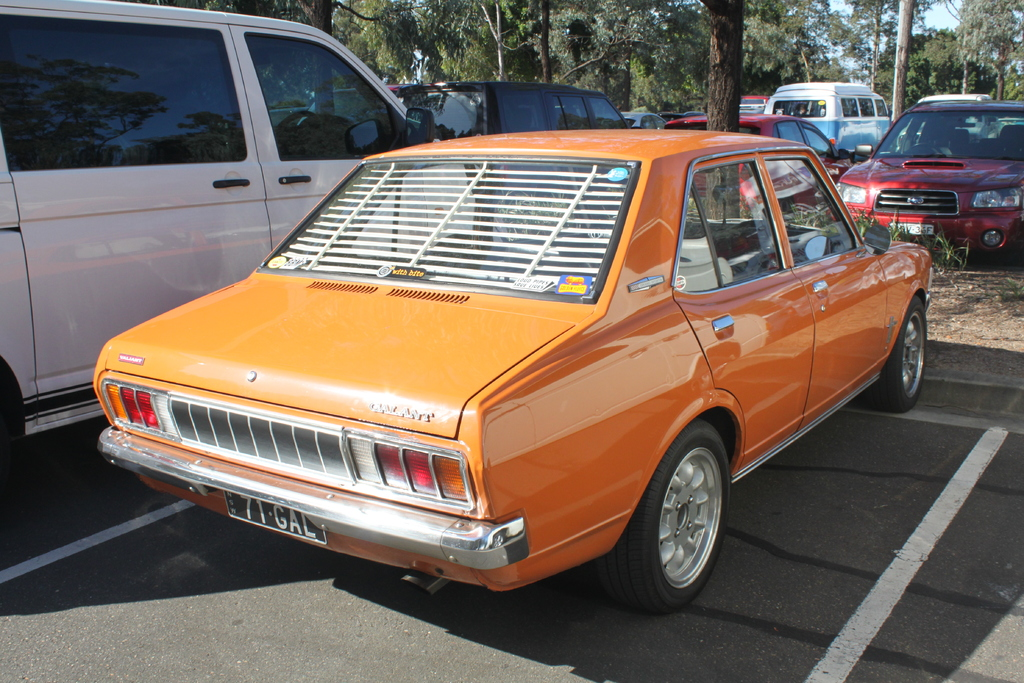Car: (0, 0, 1023, 609)
